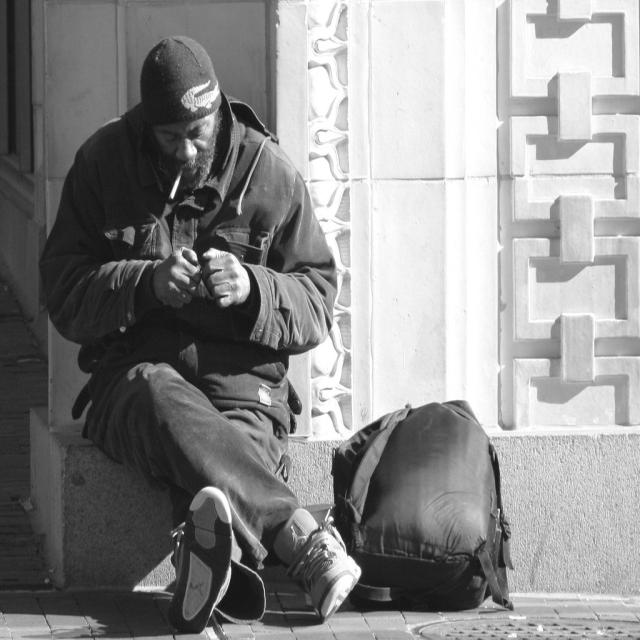backpack: (326, 399, 506, 606)
